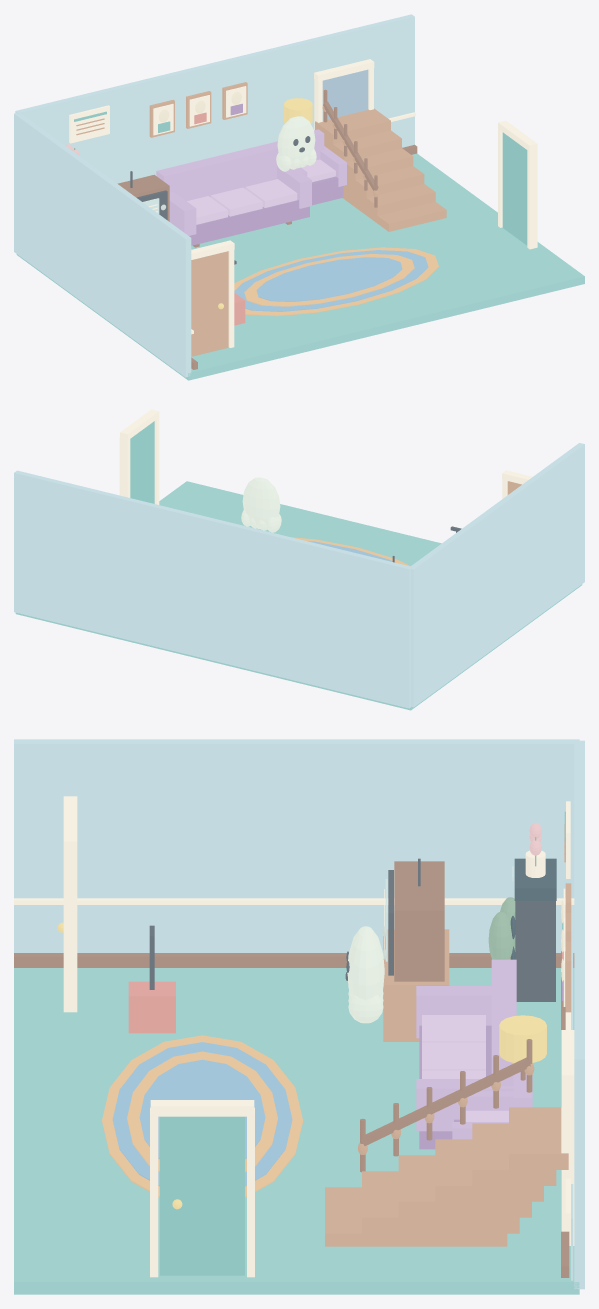
File: house-living.glb
3 renders of one model, top to bottom at view 1: azimuth 30°, elevation 25°; view 2: azimuth 150°, elevation 25°; view 3: azimuth 270°, elevation 25°, orthographic. The views are drawn at different scales.
Parts seen in each view (by area): view 1: Floor, Left_wall, Back_wall, Oval_rug.003, Sofa_back, Door_Street_panel, Door_Kitchen_panel, Sofa_base, Oval_rug.001, Oval_rug, Oval_rug.002, Door_Study_panel (+25 smaller); view 2: Back_wall, Left_wall, Floor, Door_Kitchen_panel, Ghost_sheet, Door_Kitchen_jamb, Door_Kitchen_jamb.001, Door_Kitchen_lintel; view 3: Left_wall, Floor, Door_Kitchen_panel, TV_box, Back_wall, Left_skirting, Oval_rug.001, Oval_rug.003, Stair_tread.001, Oval_rug, Stair_tread, Stereo_case (+29 smaller).
Part boxes in pixels (x1=…): Floor: x1=16, y1=153, x2=584, y2=380; Left_wall: x1=14, y1=113, x2=191, y2=377; Back_wall: x1=15, y1=14, x2=414, y2=183; Oval_rug.003: x1=256, y1=257, x2=402, y2=301; Sofa_back: x1=156, y1=141, x2=278, y2=200; Door_Street_panel: x1=191, y1=251, x2=228, y2=356; Door_Kitchen_panel: x1=502, y1=132, x2=527, y2=245; Sofa_base: x1=189, y1=199, x2=309, y2=245; Oval_rug.001: x1=234, y1=250, x2=428, y2=311; Oval_rug: x1=234, y1=247, x2=438, y2=316; Oval_rug.002: x1=244, y1=254, x2=414, y2=306; Door_Study_panel: x1=322, y1=69, x2=368, y2=120; Back_wall: x1=14, y1=470, x2=412, y2=708; Left_wall: x1=411, y1=443, x2=584, y2=707; Floor: x1=15, y1=481, x2=582, y2=710; Door_Kitchen_panel: x1=130, y1=421, x2=154, y2=503; Ghost_sheet: x1=242, y1=477, x2=280, y2=529; Door_Kitchen_jamb: x1=119, y1=437, x2=130, y2=497; Door_Kitchen_jamb.001: x1=154, y1=418, x2=159, y2=504; Door_Kitchen_lintel: x1=120, y1=409, x2=159, y2=439; Left_wall: x1=14, y1=739, x2=579, y2=952; Floor: x1=14, y1=968, x2=579, y2=1294; Door_Kitchen_panel: x1=160, y1=1116, x2=244, y2=1275; TV_box: x1=394, y1=861, x2=444, y2=981; Back_wall: x1=574, y1=740, x2=584, y2=1289; Left_skirting: x1=14, y1=953, x2=574, y2=967; Oval_rug.001: x1=112, y1=1042, x2=292, y2=1186; Oval_rug.003: x1=139, y1=1059, x2=265, y2=1159; Stair_tread.001: x1=362, y1=1171, x2=519, y2=1233; Oval_rug: x1=102, y1=1035, x2=302, y2=1197; Stair_tread: x1=325, y1=1187, x2=507, y2=1246; Stereo_case: x1=515, y1=901, x2=555, y2=1001.
Bounding box in the file's own units: 12.09 × 4.13 × 9.09.
